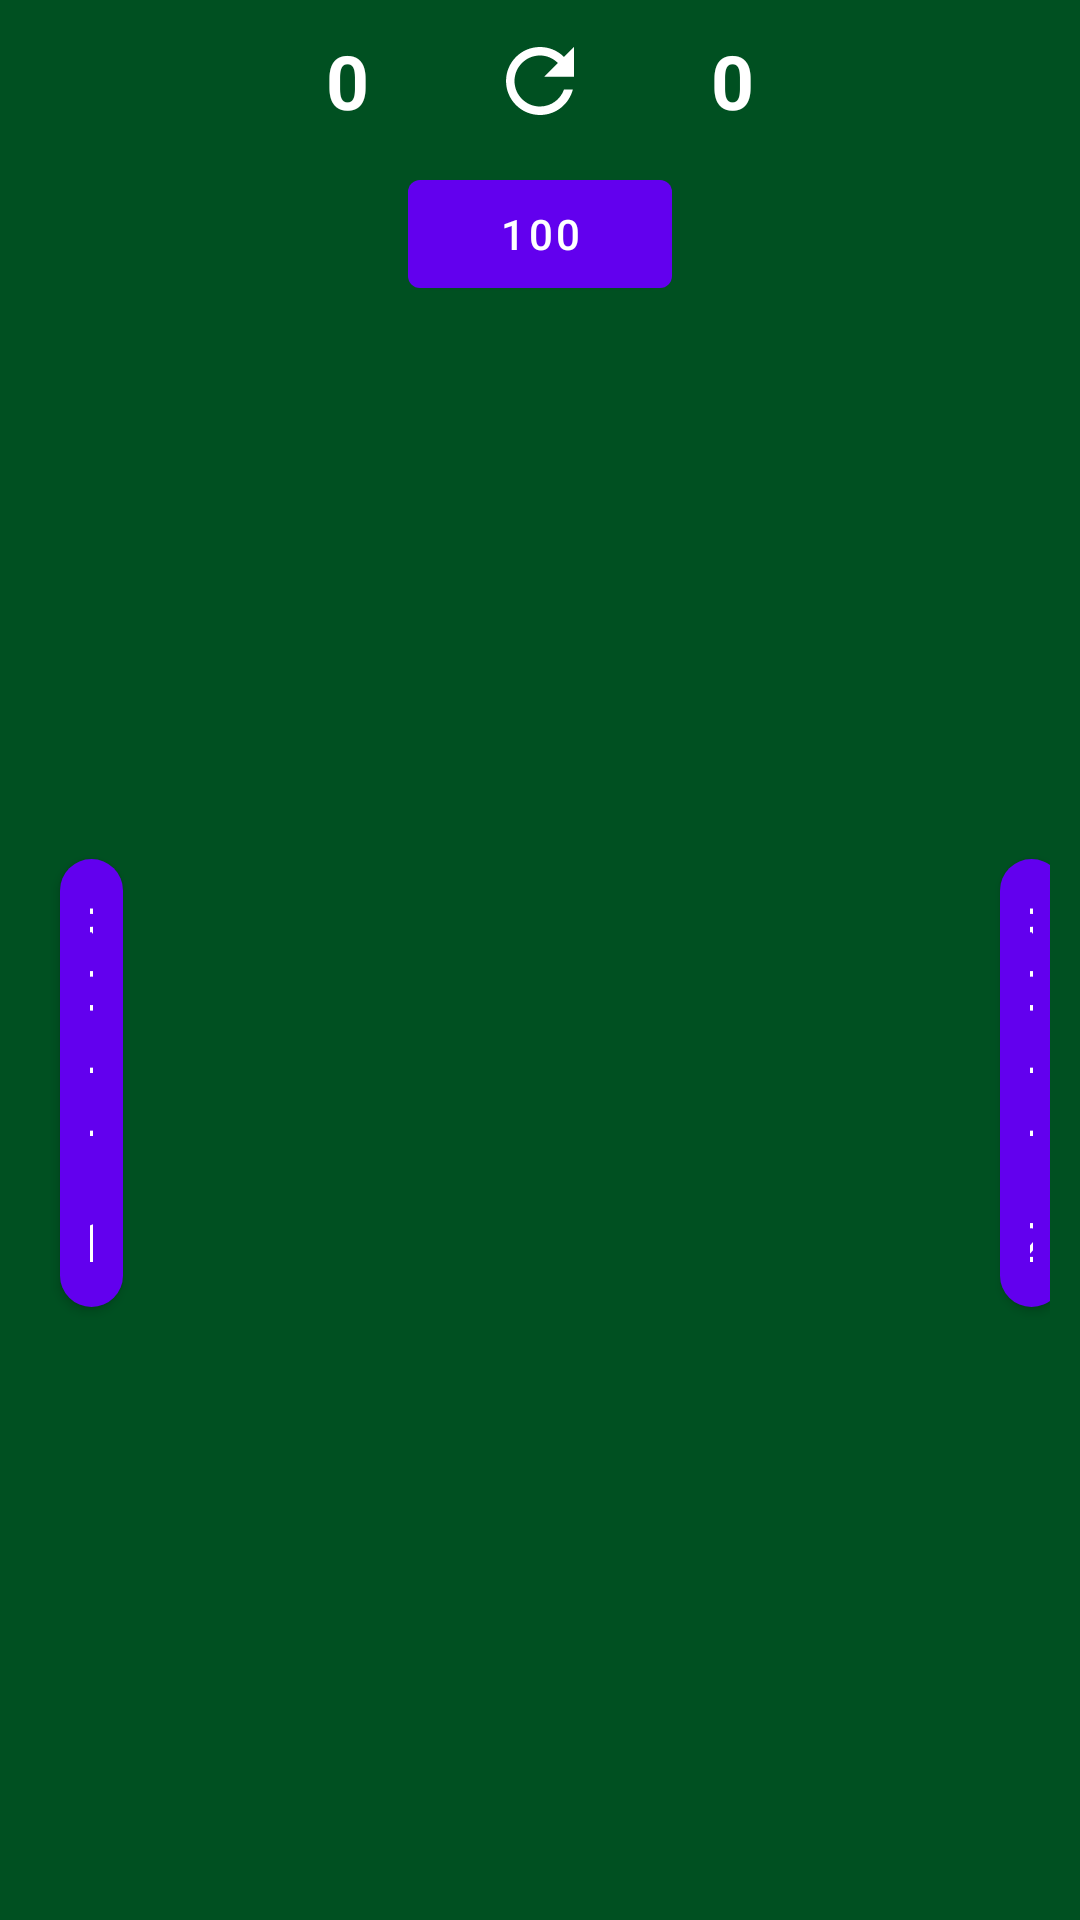

Screen size 1080×1920. Icon name, then its box in pixels as (x1, y1, x2, y2):
refresh: (506, 47, 574, 115)
